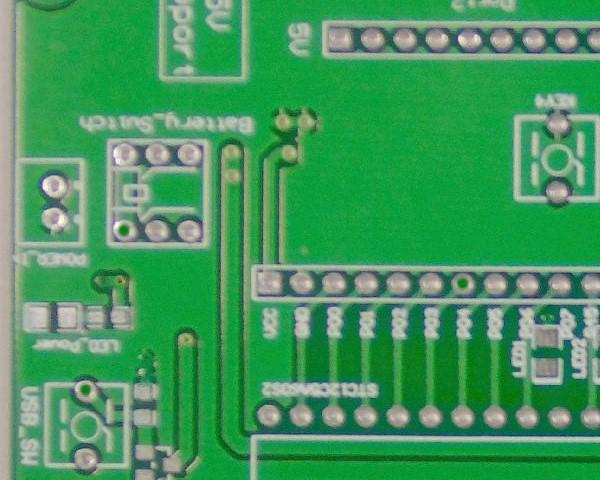missing hole: (71, 374, 104, 407), (447, 268, 483, 298), (108, 215, 140, 244)
